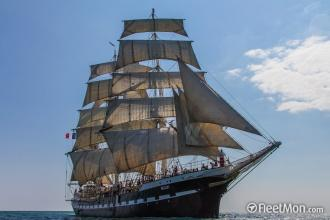fanchuan: (62, 10, 282, 216)
